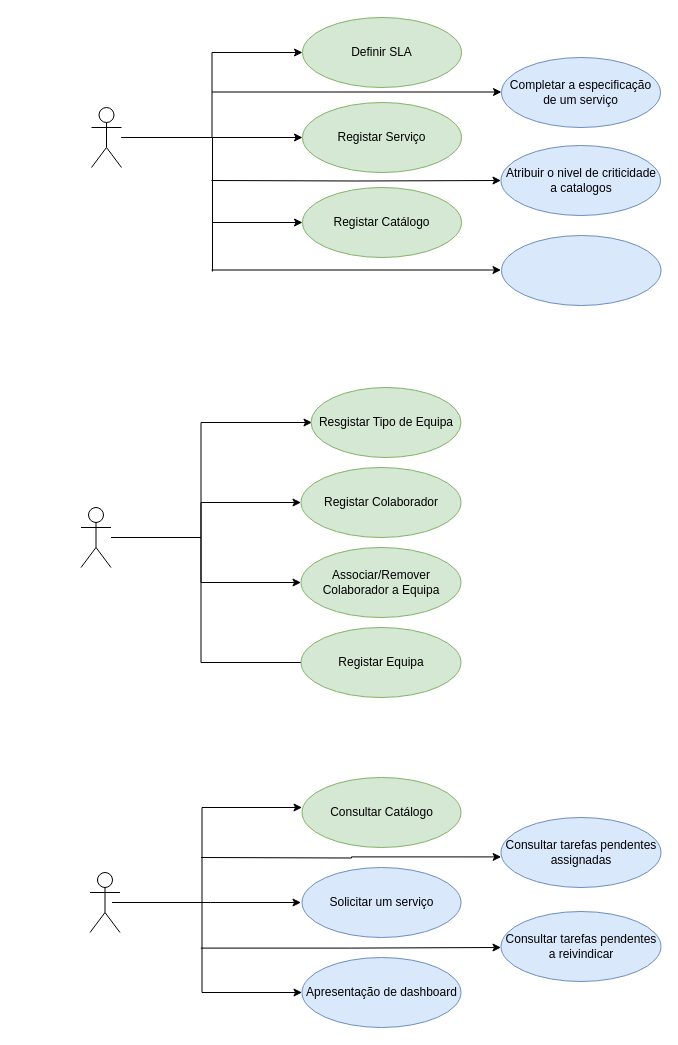
This 678x1045 diagram has some shape labels left out. Each missing label, with the box of its shape:
Conhecer o estado atual do motor de fluxos: (500, 234, 661, 306)
Gestor de Serviços de Helpdesk: (90, 106, 122, 168)
Resp. de Recursos Humanos: (80, 506, 111, 568)
Utilizador: (89, 872, 120, 932)
